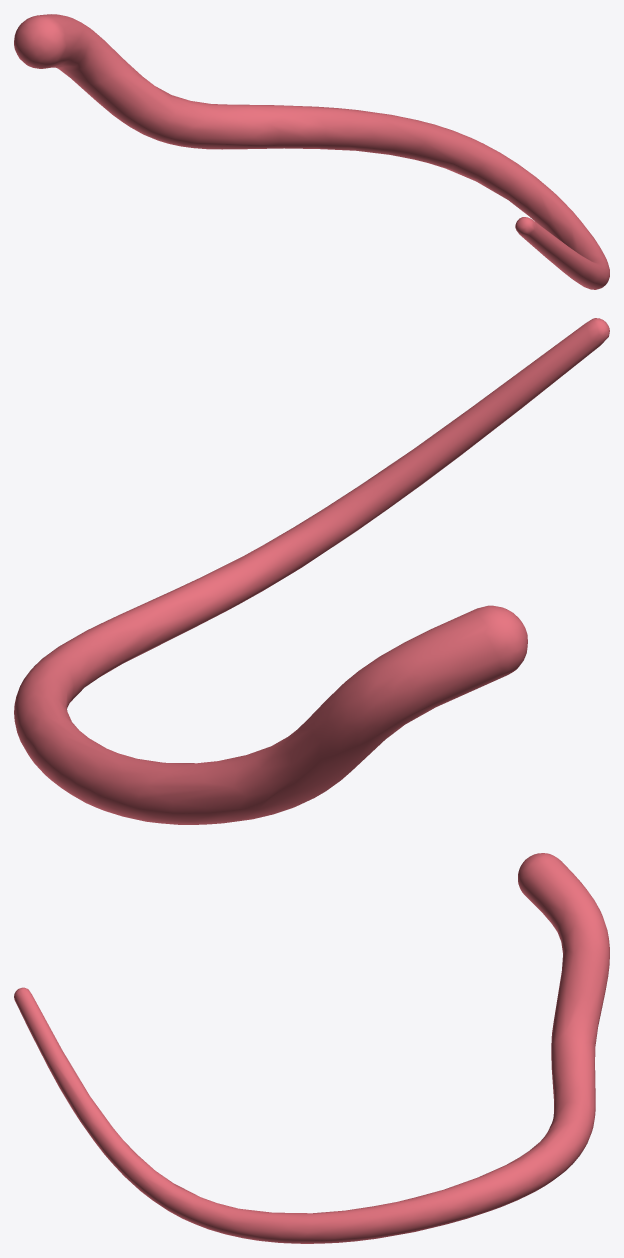
Rendered from fma43890_fj2152.glb.
3 views of the same model, one above another, from view 1: azimuth 30°, elevation 25°; view 2: azimuth 150°, elevation 25°; view 3: azimuth 270°, elevation 25° (orthographic). The views are drawn at different scales.
Visible parts, largest first — view 1: FMA43890_FJ2152; view 2: FMA43890_FJ2152; view 3: FMA43890_FJ2152.
Boxes of the visible parts, x1=… form: FMA43890_FJ2152: x1=14, y1=14, x2=609, y2=289; FMA43890_FJ2152: x1=14, y1=318, x2=609, y2=824; FMA43890_FJ2152: x1=14, y1=853, x2=609, y2=1243.
Size of the model in its own units: 0.0369 by 0.0183 by 0.0473.
